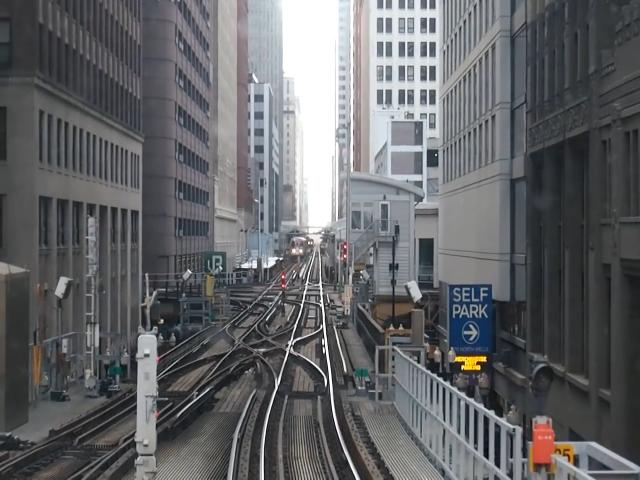signal light: (282, 273, 288, 303), (344, 244, 350, 272)
